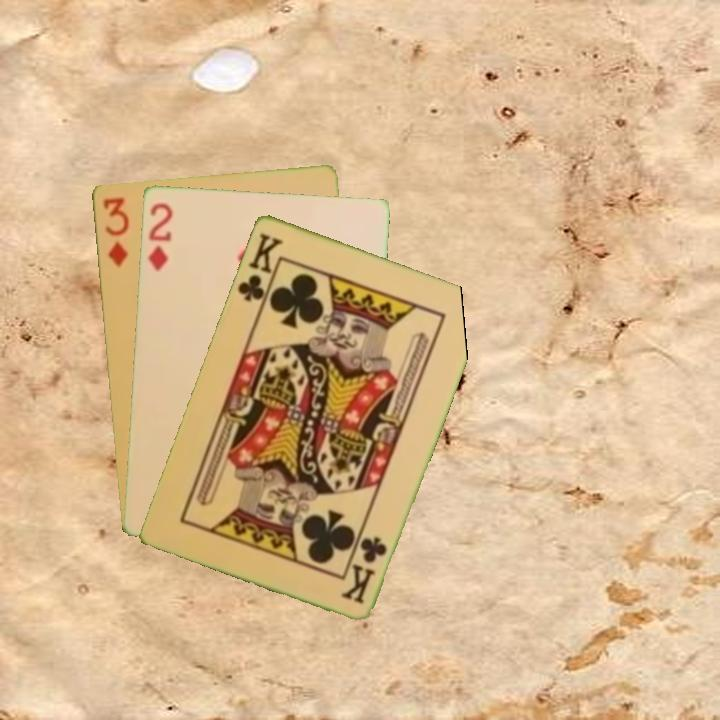2d: (144, 199, 175, 273)
3d: (99, 193, 131, 270)
Kc: (234, 229, 286, 311), (338, 532, 390, 606)
